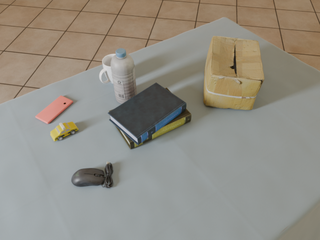book: (108, 83, 186, 145)
bottle: (110, 48, 137, 104)
box: (204, 36, 264, 110)
cup: (99, 54, 115, 84)
mouse: (71, 162, 113, 188)
phone: (36, 96, 73, 124)
toy_car: (50, 122, 78, 141)
